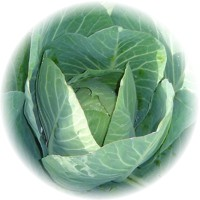cabbage: (72, 77, 119, 141)
